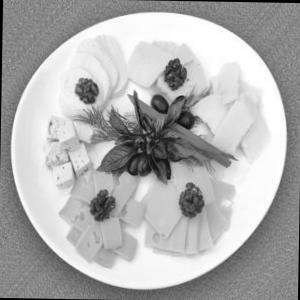cheese: (19, 35, 273, 270)
